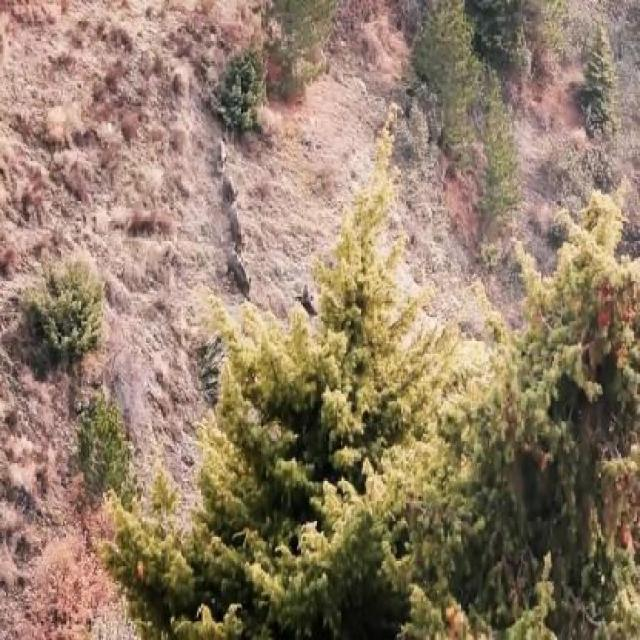pig: (226, 242, 252, 293), (223, 170, 241, 212), (209, 129, 227, 158), (234, 214, 248, 237)
